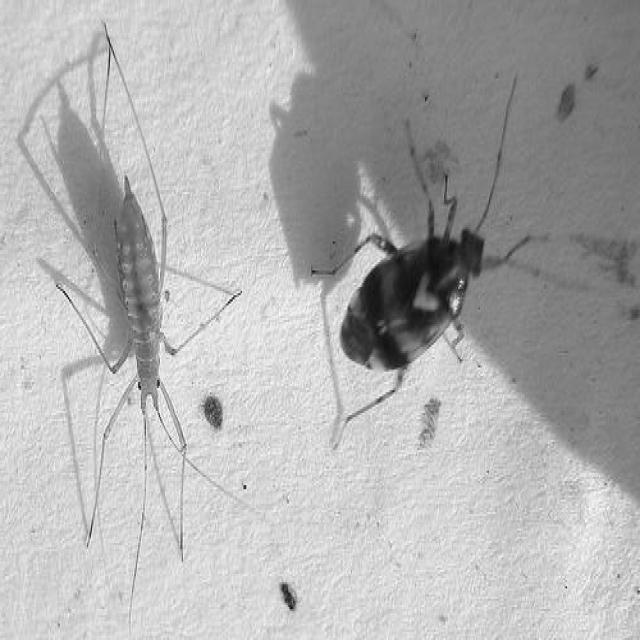Aphids: (46, 49, 234, 550)
